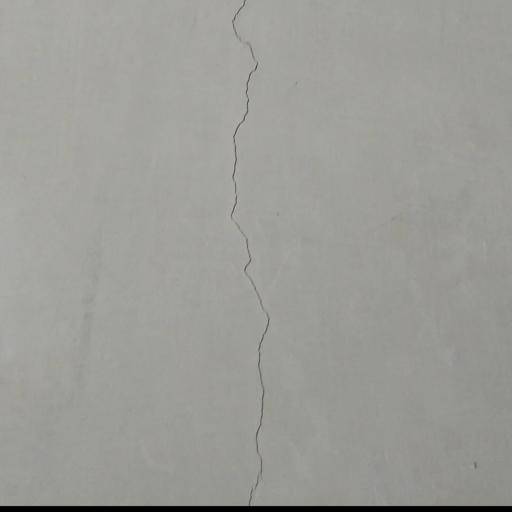minor_crack: (214, 0, 282, 509)
